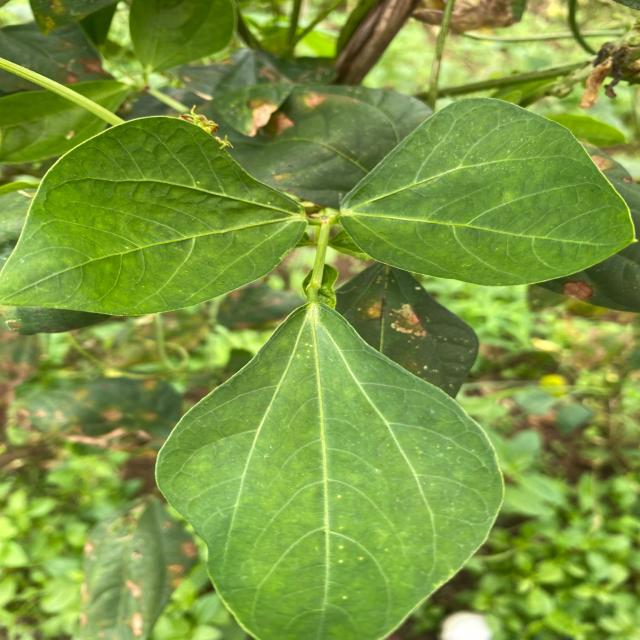leaf-low: (156, 303, 503, 640), (0, 113, 310, 332), (339, 98, 635, 285)
sitaw-aphid-high: (211, 81, 432, 207), (0, 88, 105, 164), (61, 80, 132, 110)
sitaw-aphid-low: (336, 262, 478, 398)
